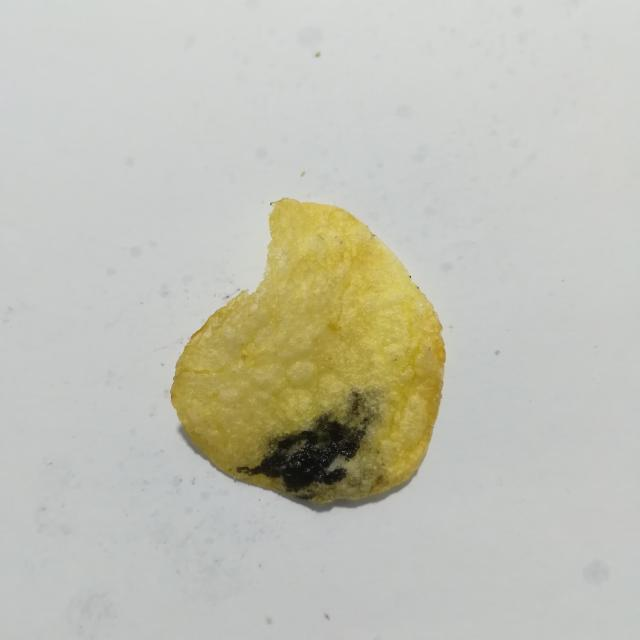chip: (171, 198, 445, 503)
damaged: (238, 414, 370, 492), (350, 392, 363, 416), (295, 490, 316, 501)
